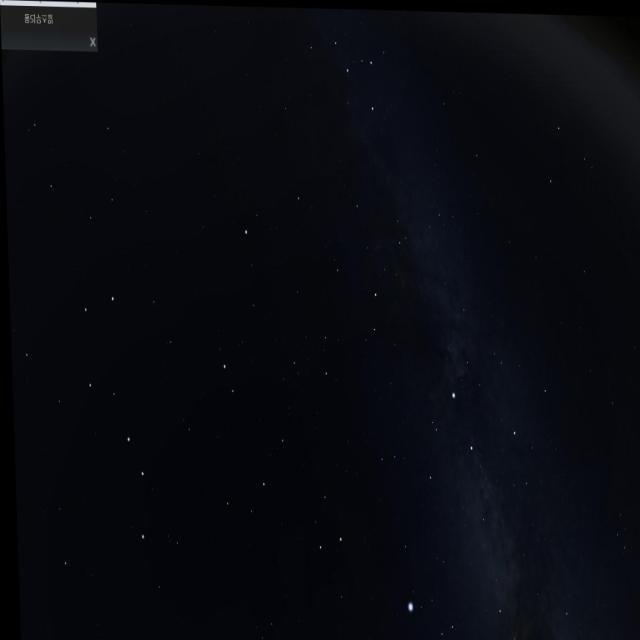cassiopeia: (302, 14, 387, 131)
cygnus: (422, 372, 518, 578)
ursa_major: (67, 282, 163, 556)
